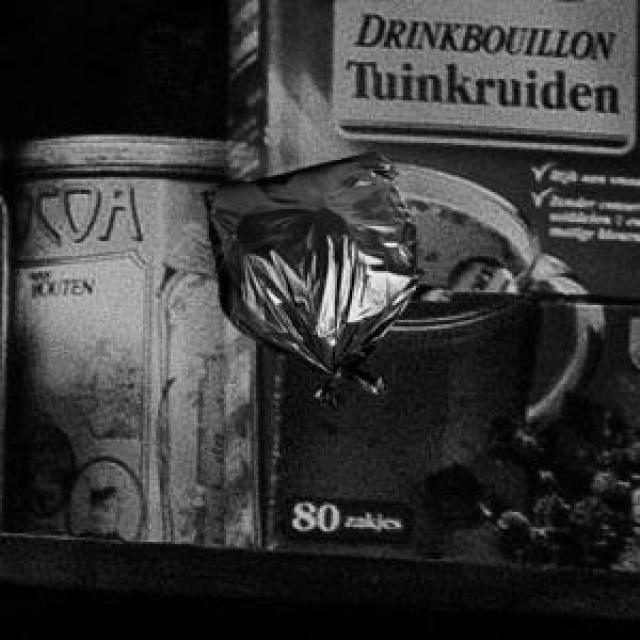miscellaneous trash: (196, 147, 414, 408)
